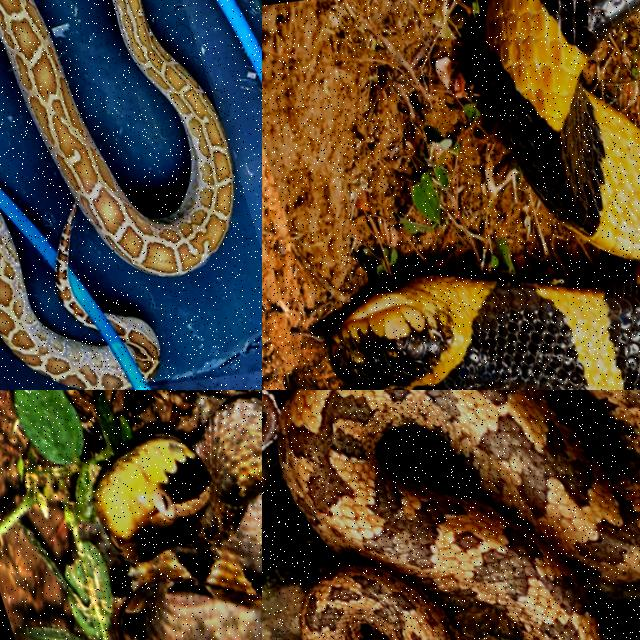Bungarus fasciatus: (329, 0, 639, 389)
Calloselasma rhodostoma: (94, 398, 261, 639)
Ovophis monticola: (262, 390, 639, 639)
Python bivittatus: (0, 0, 233, 270)
